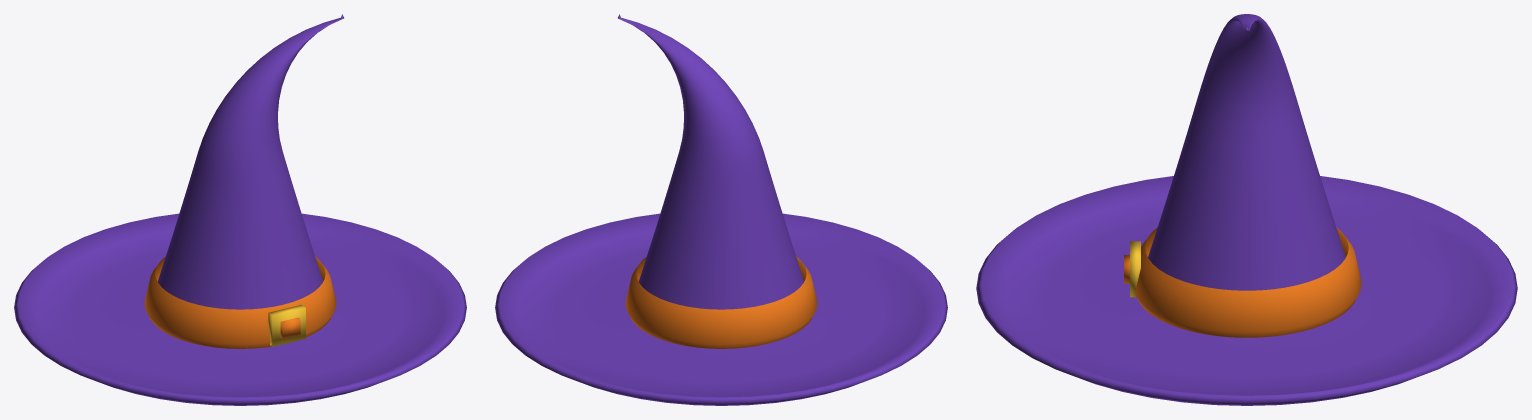
Rendered from witch_hat.glb.
The picture shows the model from 3 angles, left to right: view 1: azimuth 30°, elevation 25°; view 2: azimuth 150°, elevation 25°; view 3: azimuth 270°, elevation 25°; orthographic projection. The views are drawn at different scales.
Visible parts, largest first — view 1: brim, cone, band, buckle; view 2: brim, cone, band; view 3: brim, cone, band, buckle.
Boxes of the visible parts, x1=… form: brim: x1=14, y1=213, x2=466, y2=405; cone: x1=157, y1=14, x2=343, y2=309; band: x1=144, y1=256, x2=336, y2=348; buckle: x1=268, y1=304, x2=305, y2=346; brim: x1=495, y1=213, x2=947, y2=405; cone: x1=618, y1=14, x2=804, y2=309; band: x1=625, y1=256, x2=817, y2=348; brim: x1=976, y1=176, x2=1517, y2=405; cone: x1=1148, y1=14, x2=1345, y2=290; band: x1=1135, y1=227, x2=1361, y2=337; buckle: x1=1130, y1=241, x2=1140, y2=297.
Bounding box in the file's own units: 1 × 0.695 × 1.
